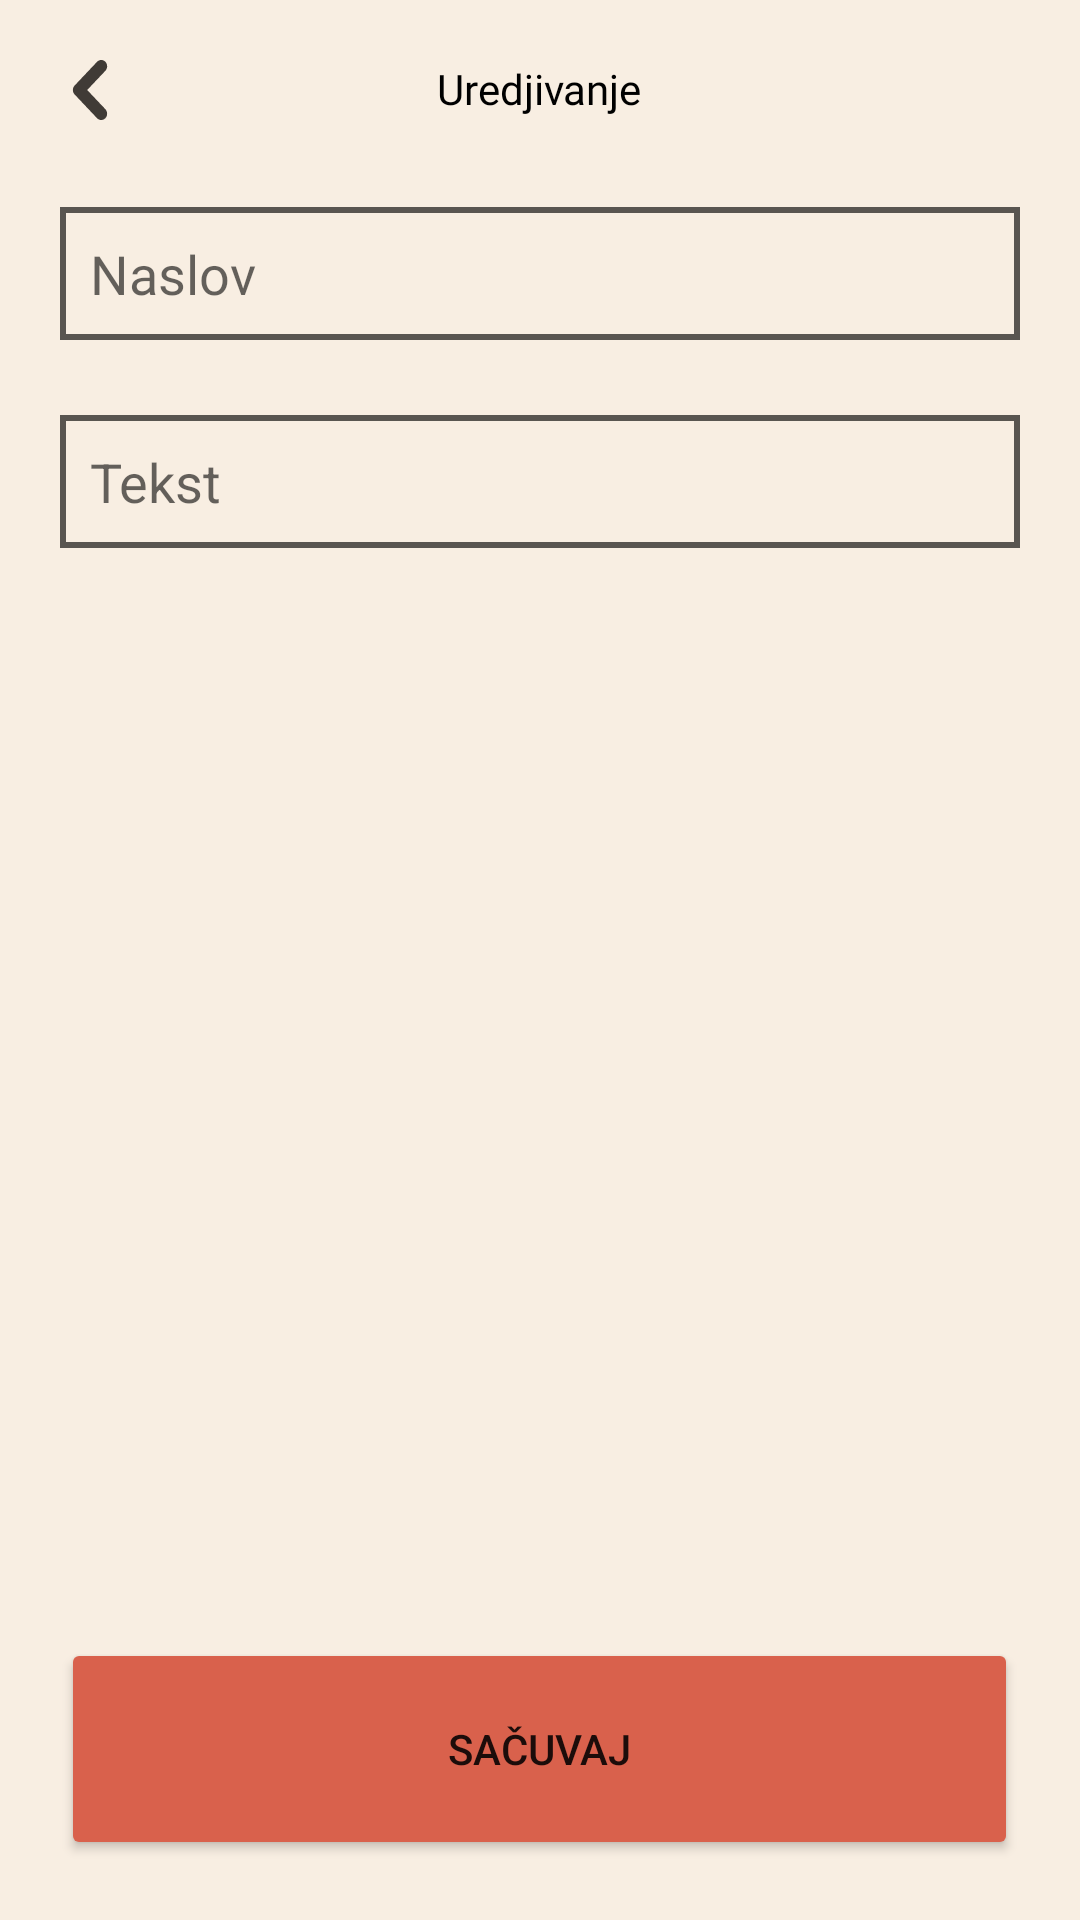

Screen size 1080 x 1920. Icon name, then its center in pixels as [x,y]:
back: [90,90]
